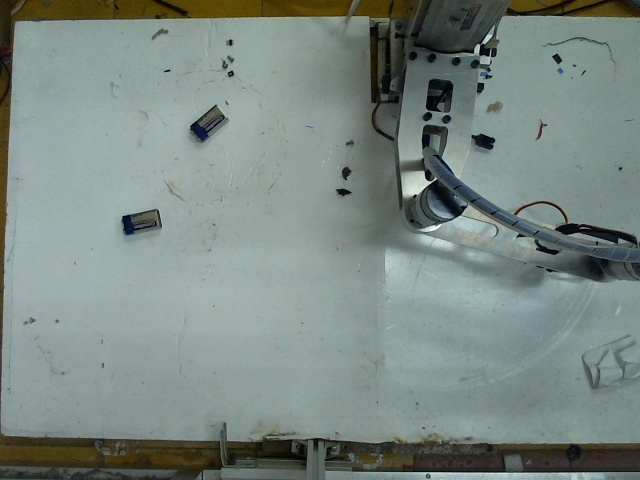battery: (119, 203, 167, 236), (189, 100, 225, 140)
